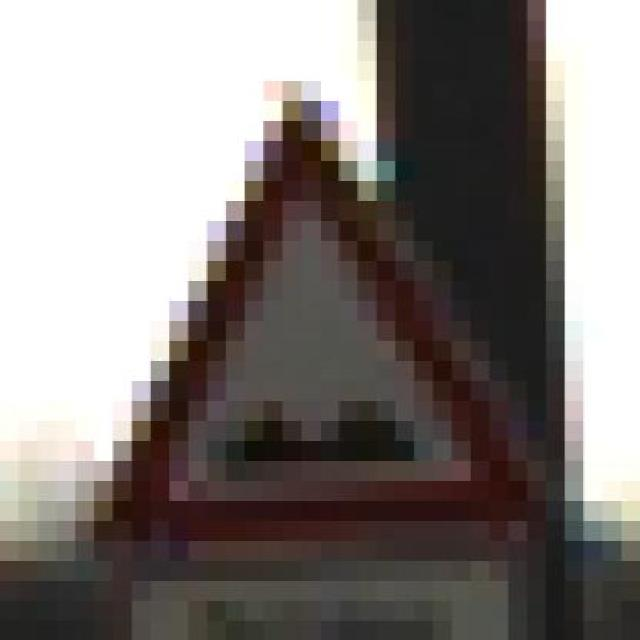Uneven Road: (76, 80, 546, 560)
